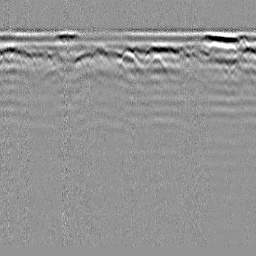cavity: (116, 47, 142, 69)
